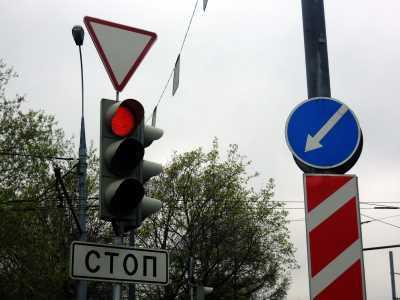trafficlight_red: (103, 99, 143, 217)
